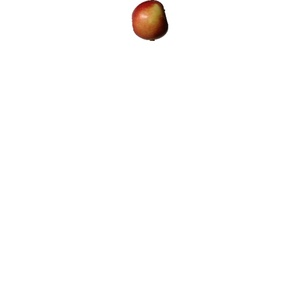maçã braeburn: (131, 1, 171, 42)
